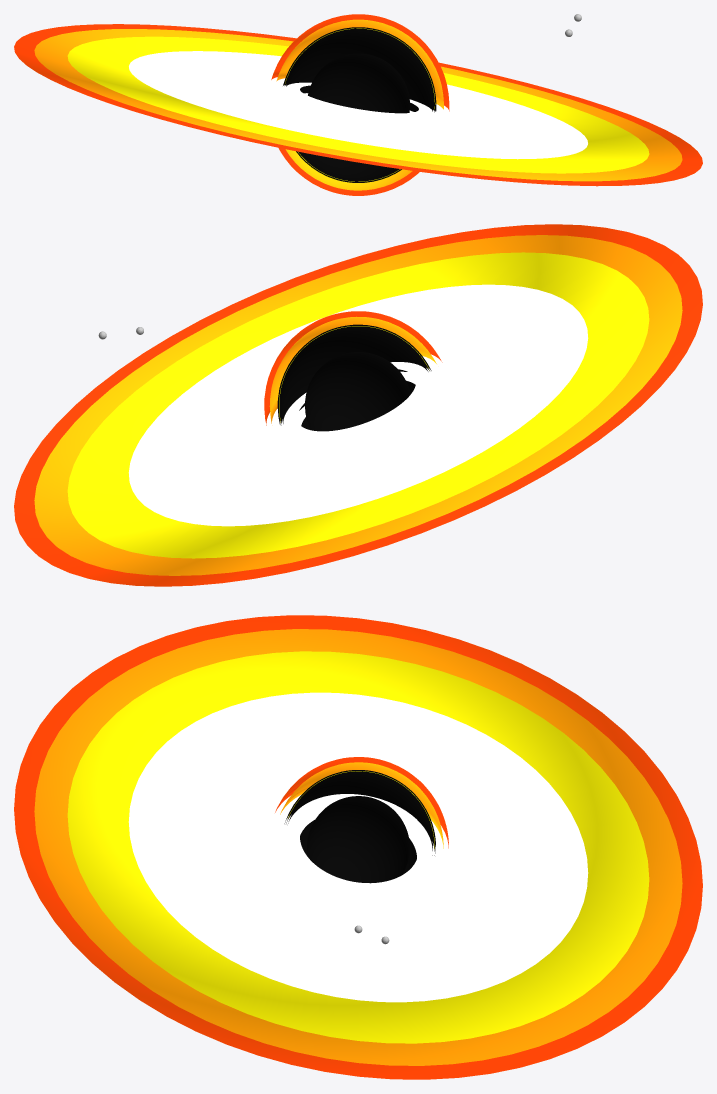
The model's file is blackhole[1].glb.
3 renders of one model, top to bottom at view 1: azimuth 30°, elevation 25°; view 2: azimuth 150°, elevation 25°; view 3: azimuth 270°, elevation 25°, orthographic. The views are drawn at different scales.
Visible parts, largest first — view 1: Object_7, Object_6, Object_4, Object_5, Object_2, Object_3; view 2: Object_7, Object_6, Object_4, Object_5, Object_3, Object_2; view 3: Object_7, Object_6, Object_4, Object_5, Object_3, Object_2.
Boxes of the visible parts, bbox=[...] form: Object_7: bbox=[129, 51, 587, 159]; Object_6: bbox=[67, 28, 649, 181]; Object_4: bbox=[34, 19, 682, 190]; Object_5: bbox=[14, 14, 702, 195]; Object_2: bbox=[283, 27, 436, 182]; Object_3: bbox=[308, 53, 409, 113]; Object_7: bbox=[128, 284, 588, 526]; Object_6: bbox=[67, 252, 649, 558]; Object_4: bbox=[34, 235, 682, 575]; Object_5: bbox=[14, 224, 702, 586]; Object_3: bbox=[305, 352, 410, 431]; Object_2: bbox=[277, 324, 431, 430]; Object_7: bbox=[128, 692, 588, 1002]; Object_6: bbox=[67, 651, 649, 1043]; Object_4: bbox=[34, 629, 682, 1065]; Object_5: bbox=[14, 615, 702, 1079]; Object_3: bbox=[307, 796, 409, 883]; Object_2: bbox=[284, 770, 435, 874].
Size of the model in its own units: 56.51 by 18.33 by 58.21.
8 materials, 2 textured.
